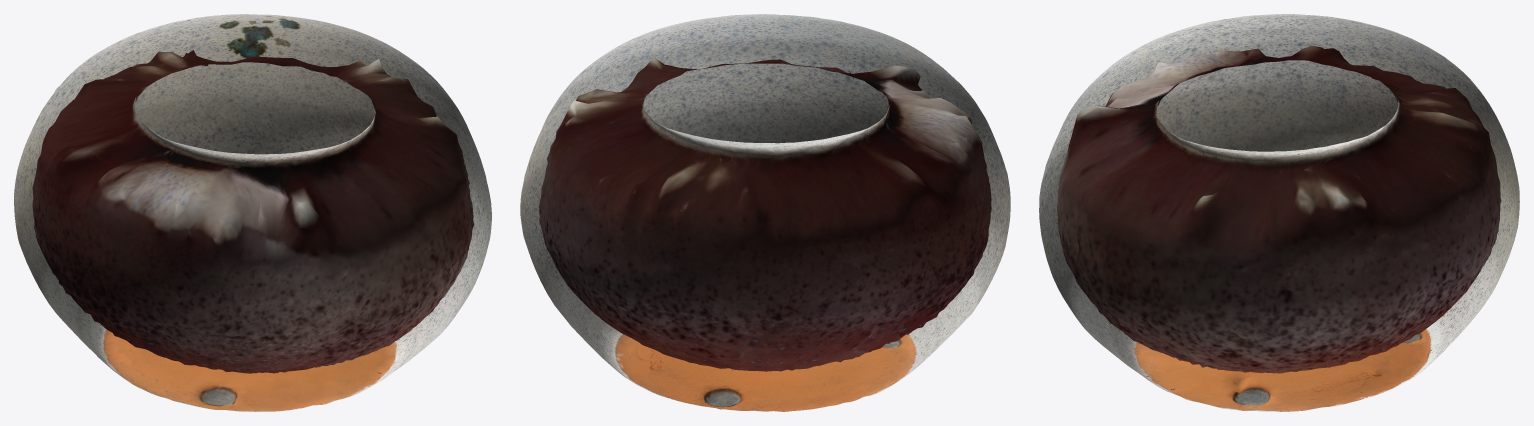
Rendered from boega2.glb.
3 views of the same model, side by side, from view 1: azimuth 30°, elevation 25°; view 2: azimuth 150°, elevation 25°; view 3: azimuth 270°, elevation 25° (orthographic). The views are drawn at different scales.
Bounding box in the file's own units: 0.2015 × 0.1275 × 0.2009.
Materials: 1 (1 with a texture image).
